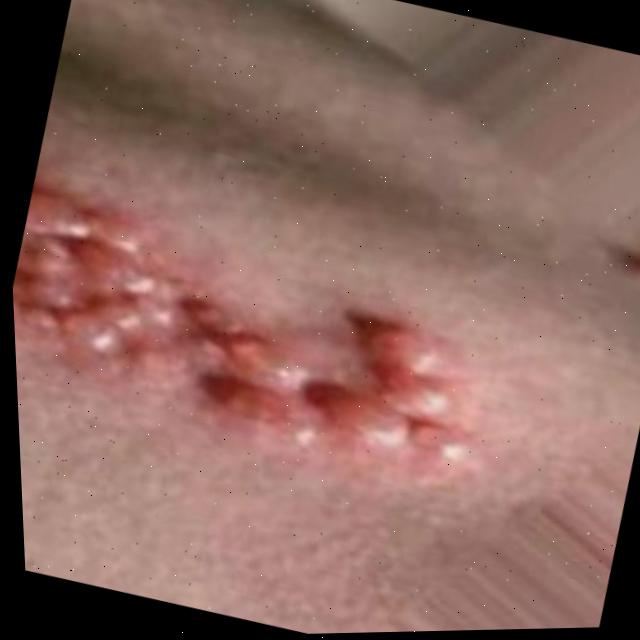Shingles: (9, 196, 505, 488)
